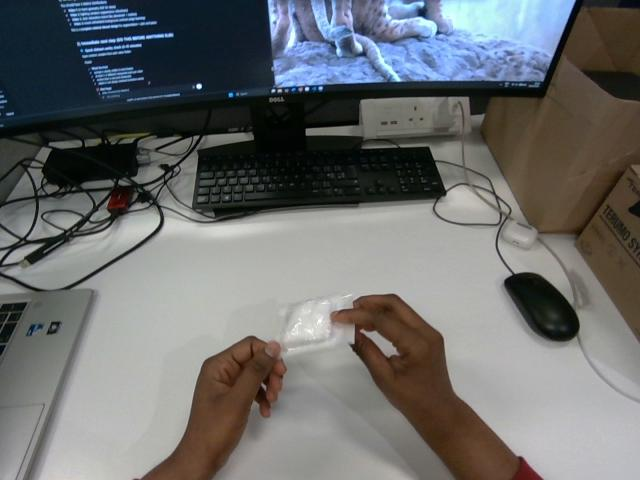gauze: (279, 294, 354, 352)
